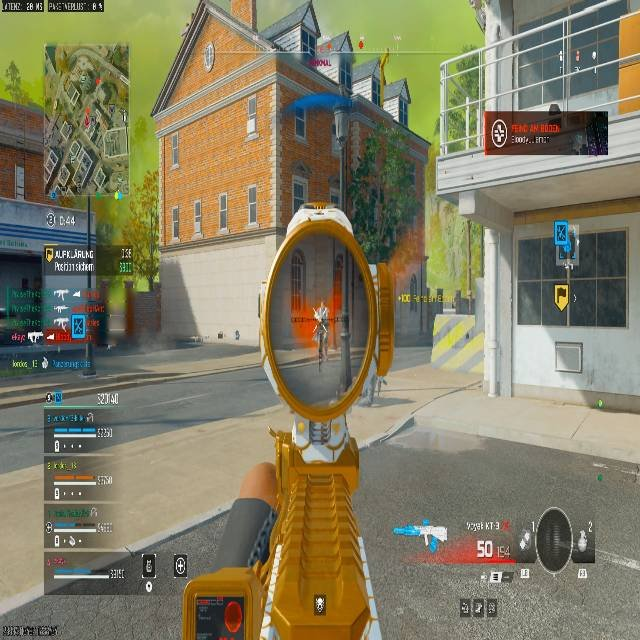player: (312, 303, 329, 364)
